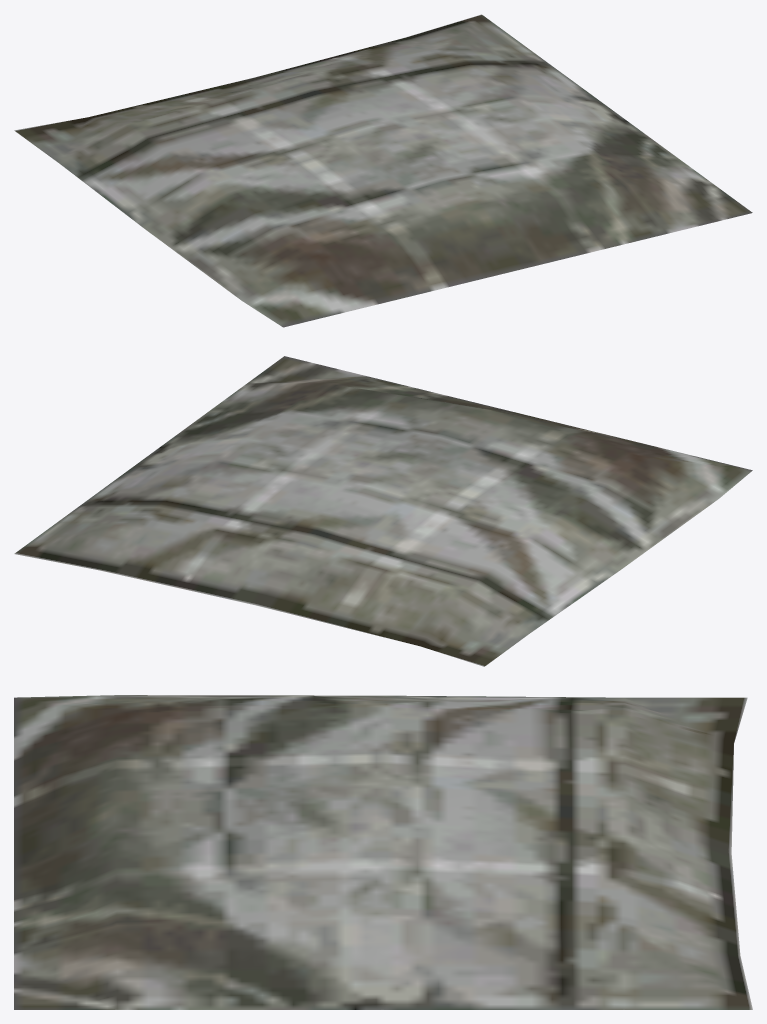
The model's file is 00_03_outside_tarp_B.dae.
3 renders of one model, top to bottom at view 1: azimuth 30°, elevation 25°; view 2: azimuth 150°, elevation 25°; view 3: azimuth 270°, elevation 25°, orthographic. The views are drawn at different scales.
Parts seen in each view (by area): view 1: tarp_B; view 2: tarp_B; view 3: tarp_B.
Part boxes in pixels (x1,y1,x2,y2): tarp_B: (14, 14, 752, 327); tarp_B: (14, 356, 752, 666); tarp_B: (14, 695, 752, 1009).
Size of the model in its own units: 4.03 by 0.2933 by 4.
